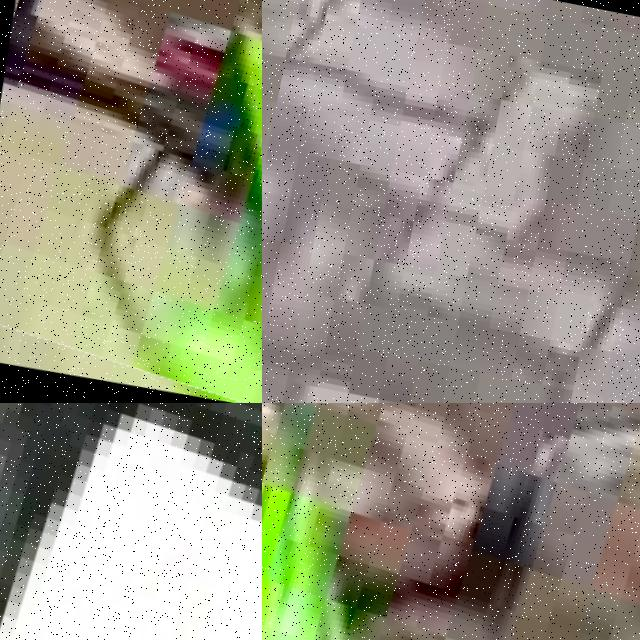drone: (0, 0, 262, 403), (262, 403, 640, 640), (0, 403, 262, 640)
